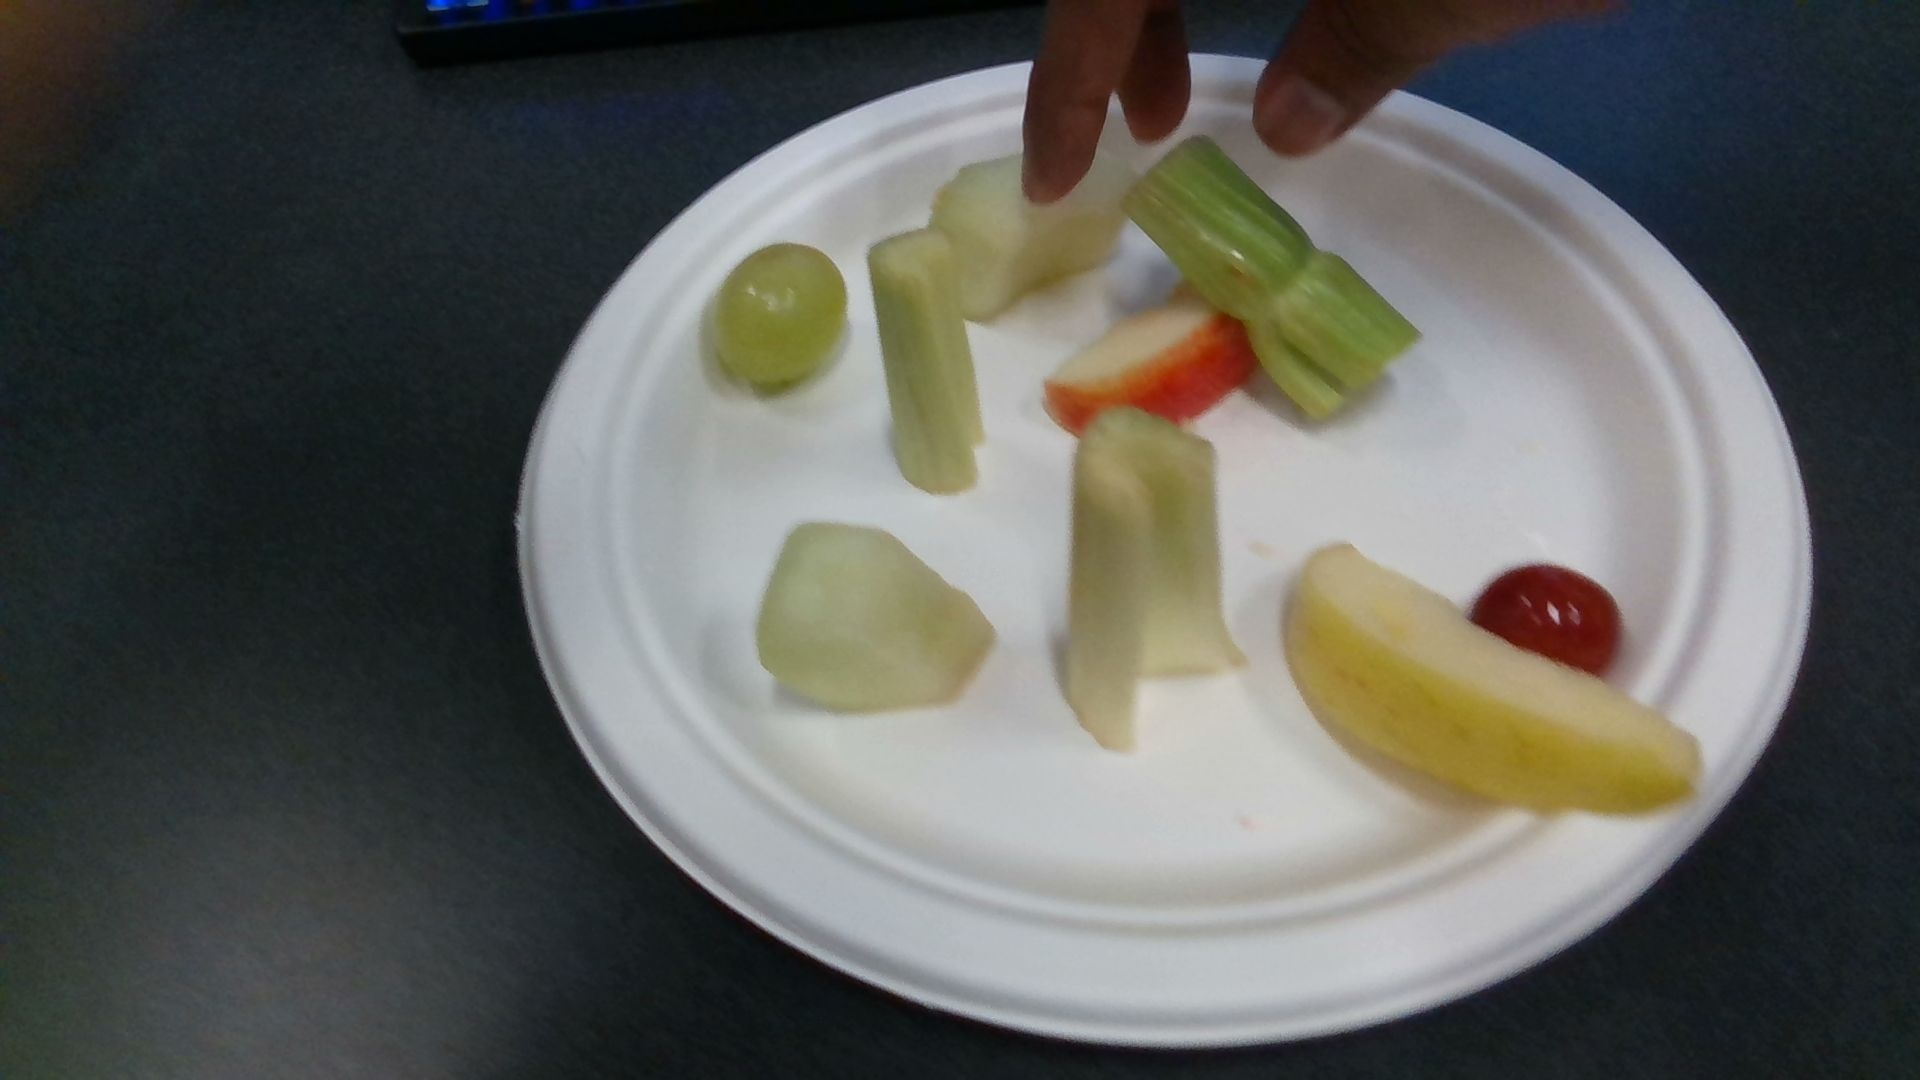apple: (1287, 545, 1704, 811), (1044, 284, 1262, 438)
cantalope: (760, 521, 996, 711), (934, 156, 1130, 316)
celery: (1120, 138, 1418, 419), (1065, 407, 1247, 756), (869, 233, 984, 495)
grape_green: (712, 247, 847, 382)
grape_purple: (1472, 564, 1622, 678)
